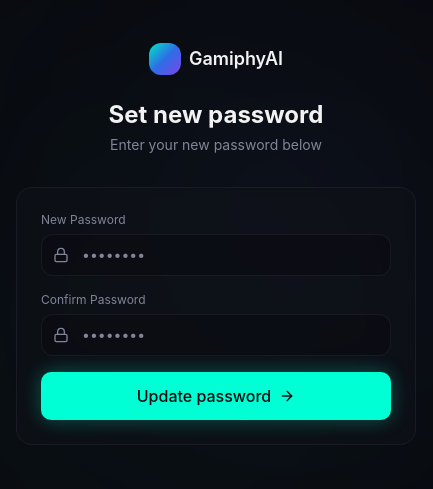
Test: ResetPasswordPage › shows error when password is too short
The image size is (433, 489).
Type "Short1!" into the 1st password field with placeholder "••••••••" at x=216, y=255, box x1=41 y1=234 x2=391 y2=276
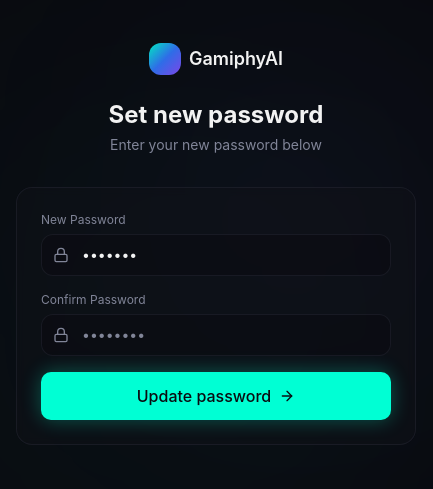
Type "Short1!" into the password field with placeholder "••••••••" at x=216, y=335, box x1=41 y1=314 x2=391 y2=356
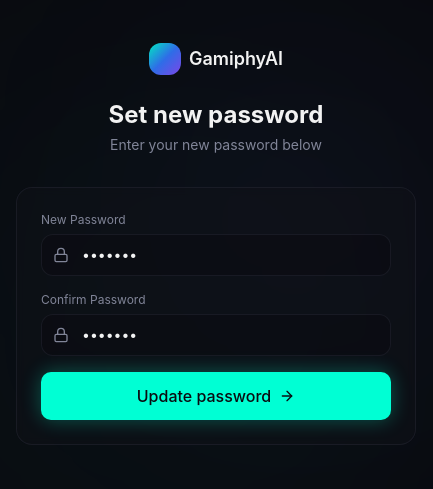
Click the button "Update password" at x=216, y=396, box x1=41 y1=372 x2=391 y2=420
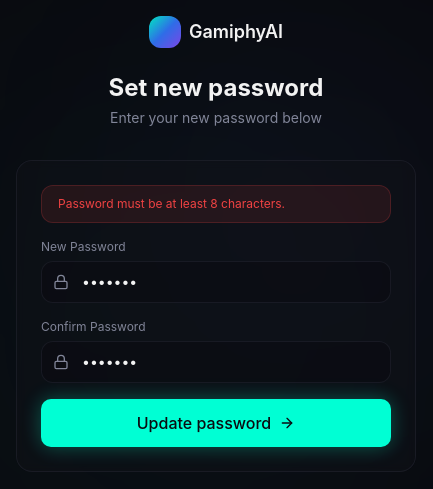
Check: the text "Password must be at least 8 characters." is shown, box x1=41 y1=185 x2=391 y2=223
